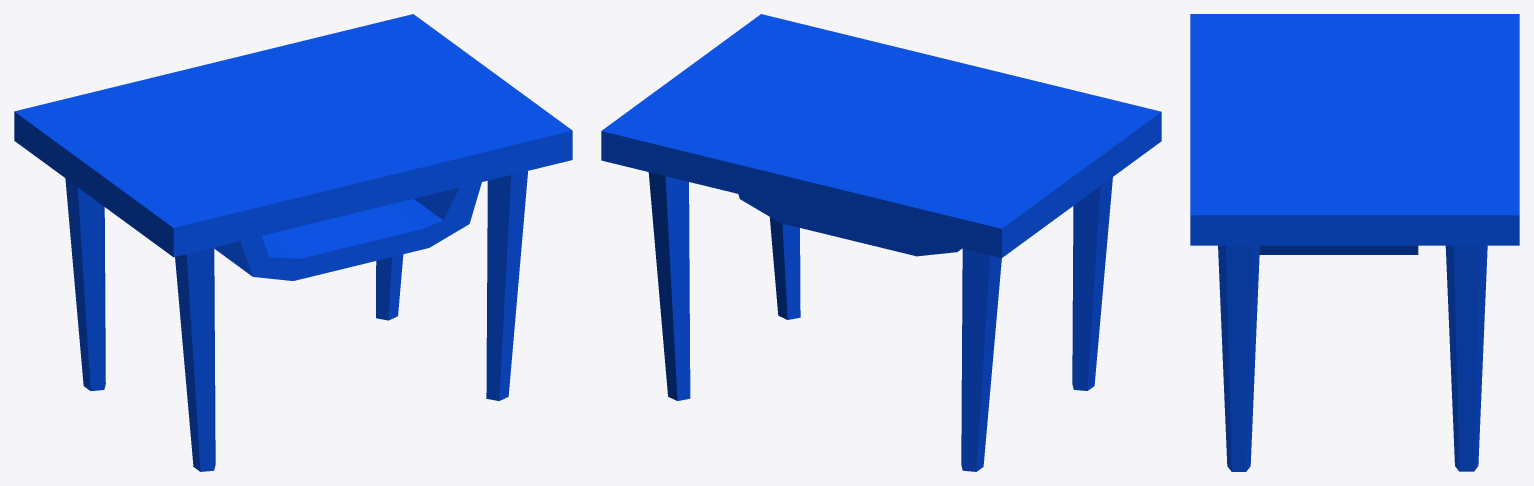
File: study_table_7_meshCollider.fbx
The picture shows the model from 3 angles, left to right: view 1: azimuth 30°, elevation 25°; view 2: azimuth 150°, elevation 25°; view 3: azimuth 270°, elevation 25°; orthographic projection. The views are drawn at different scales.
Parts seen in each view (by area): view 1: study_table_7_meshCollider; view 2: study_table_7_meshCollider; view 3: study_table_7_meshCollider.
Boxes of the visible parts, left/top/right/bottom form: study_table_7_meshCollider: left=14, top=14, right=572, bottom=471; study_table_7_meshCollider: left=601, top=14, right=1161, bottom=471; study_table_7_meshCollider: left=1190, top=14, right=1519, bottom=471.
Size of the model in its own units: 67.73 by 43.78 by 46.84.
